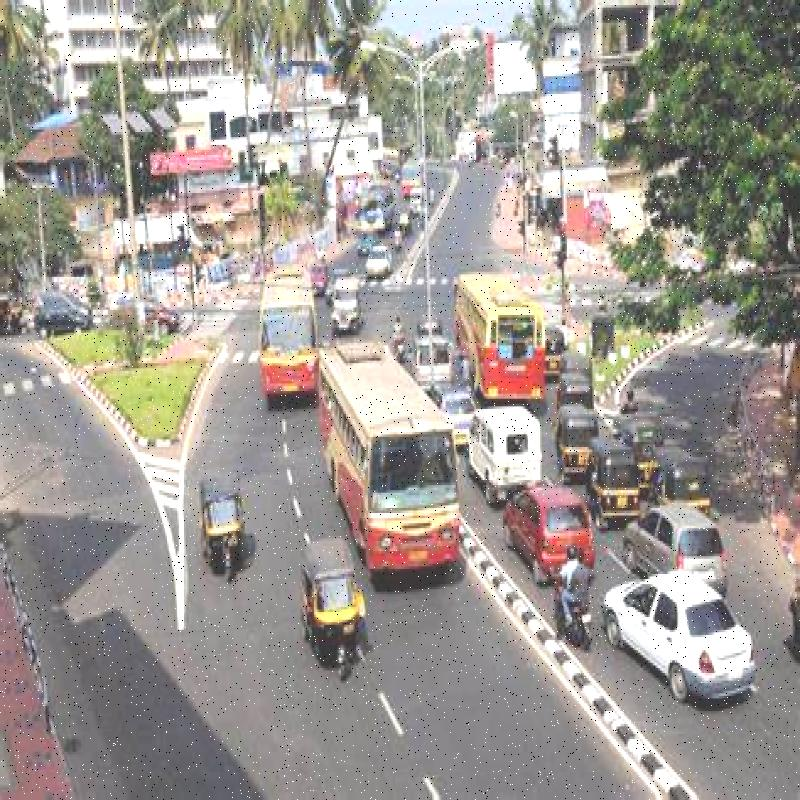auto: (302, 539, 366, 682), (192, 456, 248, 583), (594, 437, 644, 522), (554, 395, 597, 485), (652, 440, 710, 500)
bike: (552, 568, 602, 658)
bus: (316, 329, 453, 609), (448, 251, 546, 396), (256, 247, 318, 407)
car: (608, 566, 747, 722), (447, 402, 536, 507), (628, 501, 739, 584), (329, 268, 364, 336), (358, 244, 390, 282)
